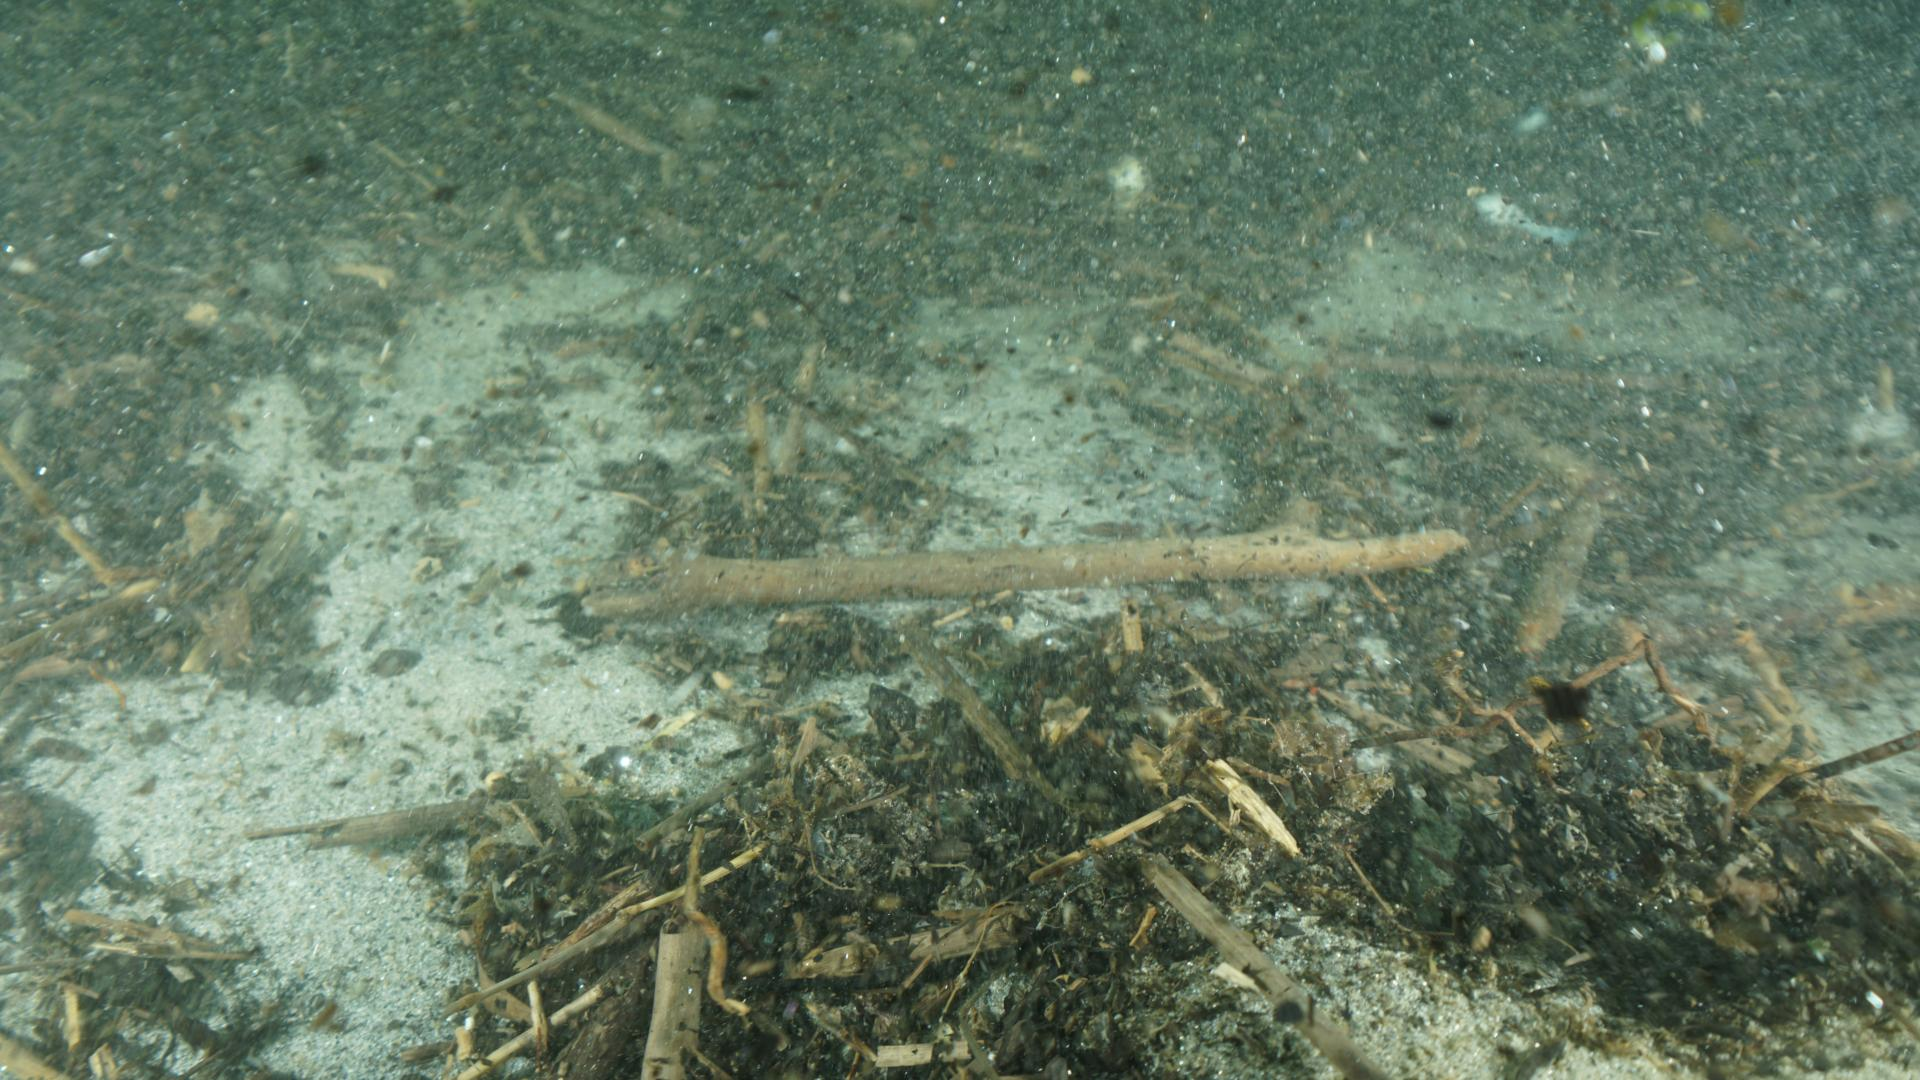wood: (580, 496, 1466, 620)
